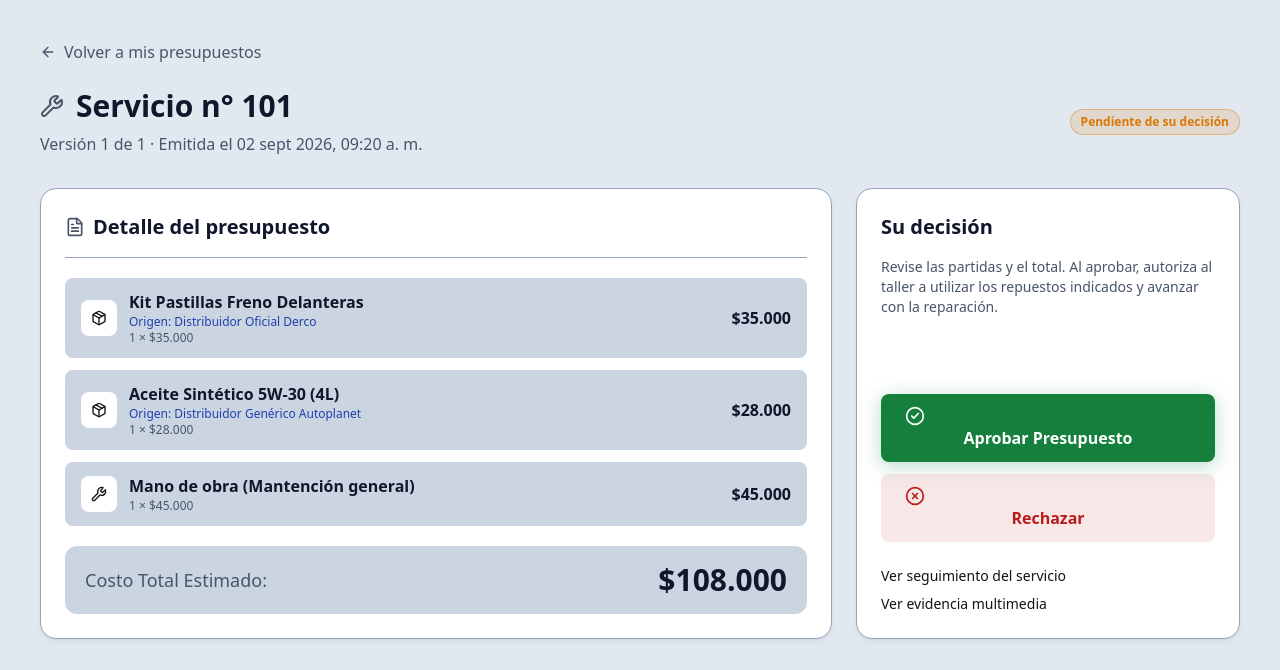
ClientBudgetDetailPage: aprobación y rechazo del presupuesto › una respuesta perdida bloquea decisiones hasta revisión explícita
This screenshot has width=1280, height=670.
Click the button "Aprobar Presupuesto" at (1048, 428), box [881,394,1215,462]
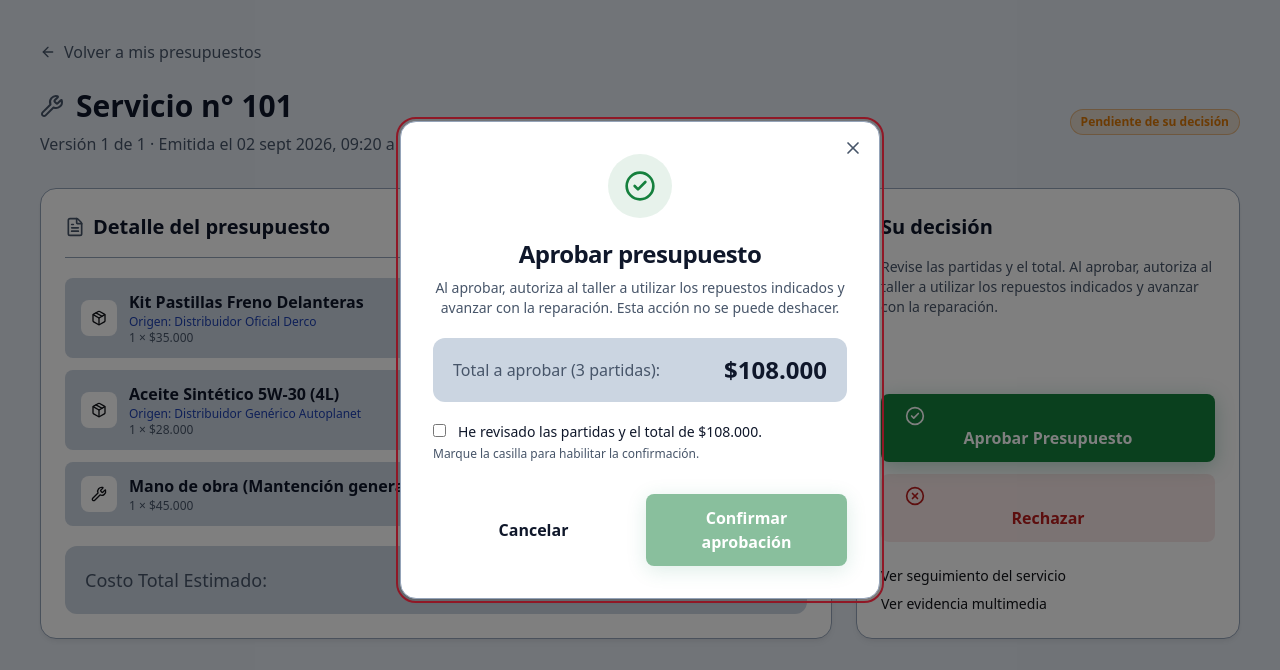
Click the checkbox labelled "He revisado las partidas y el total de $108.000." at (440, 430), box [433,424,446,437]
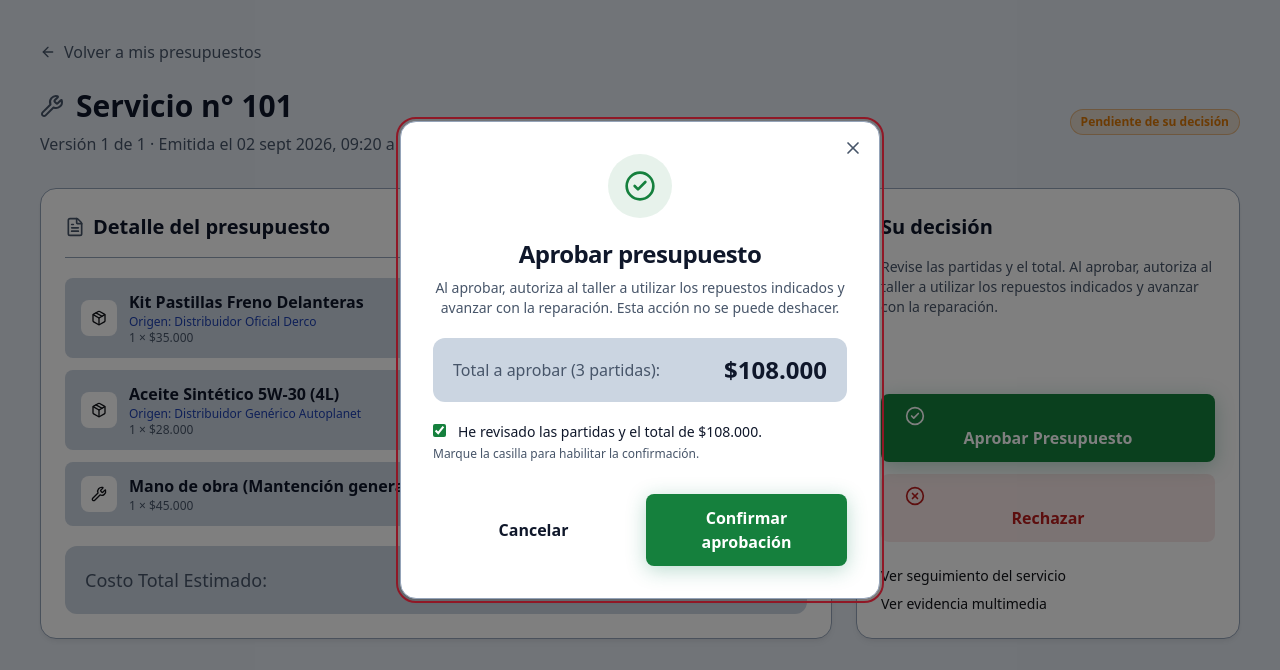
Click the button "Confirmar aprobación" at (746, 530), box [646,494,847,566]
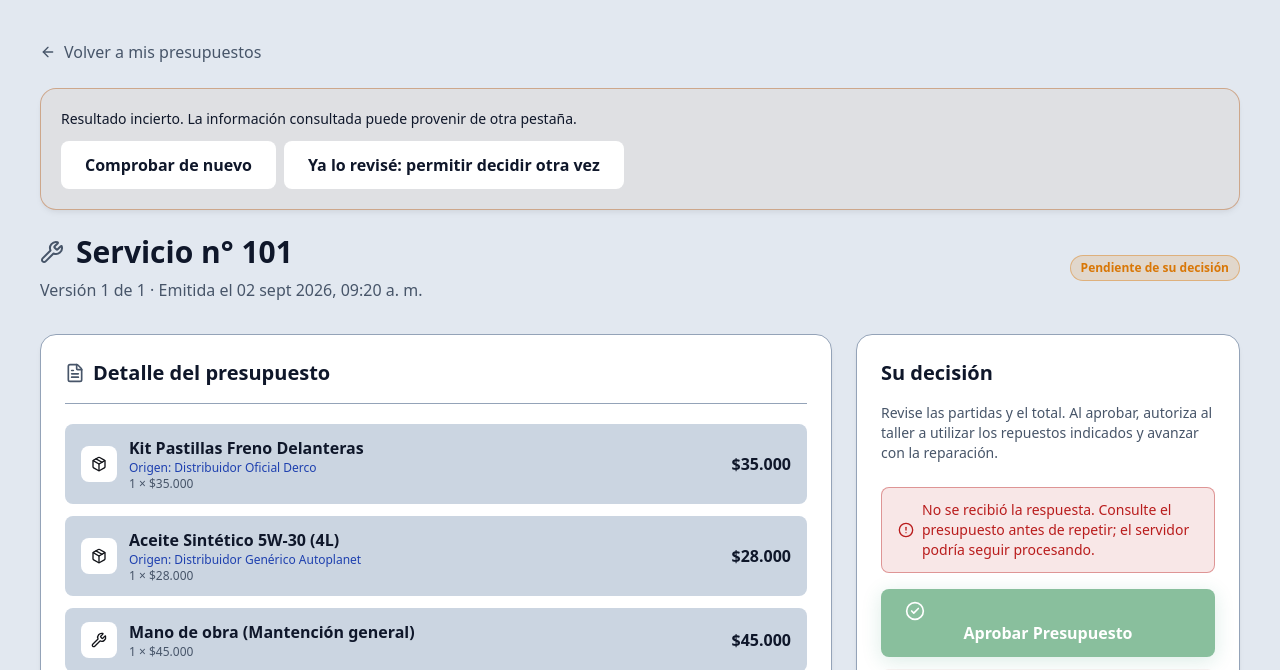
Expected: the button "Aprobar Presupuesto" is disabled, [881,589,1215,657]
Click the button "Ya lo revisé: permitir decidir otra vez" at (454, 165), box [284,141,624,189]
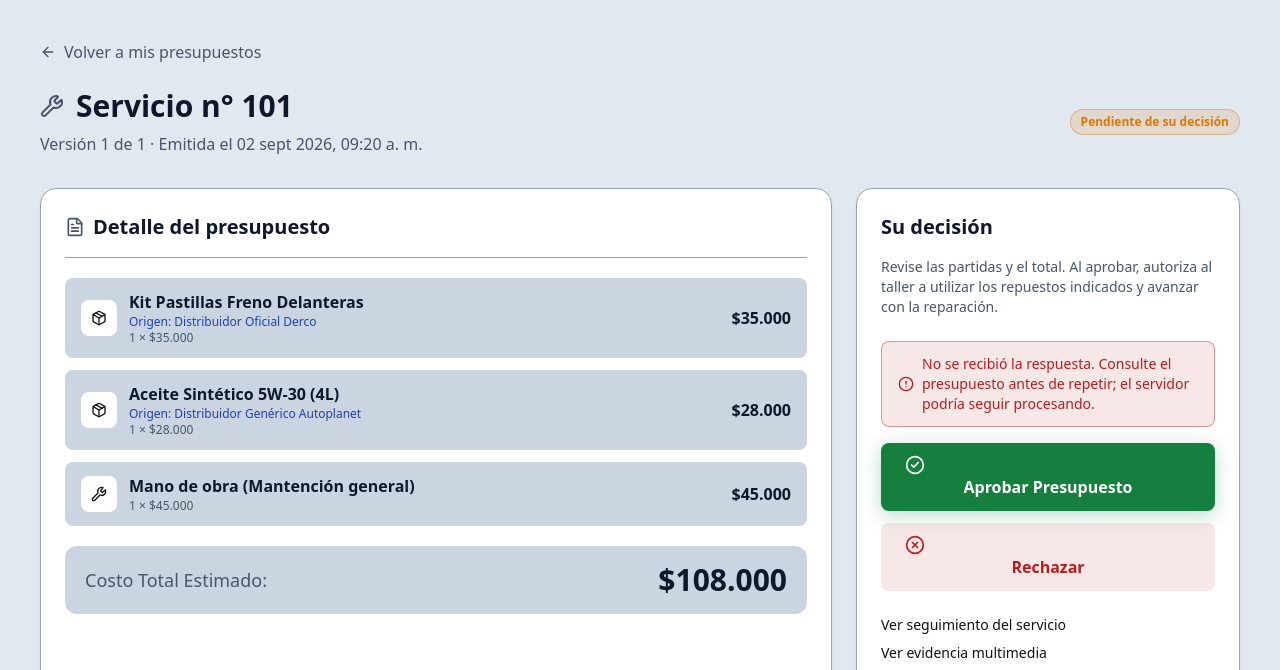
Expected: the button "Aprobar Presupuesto" is enabled, [881,443,1215,511]
